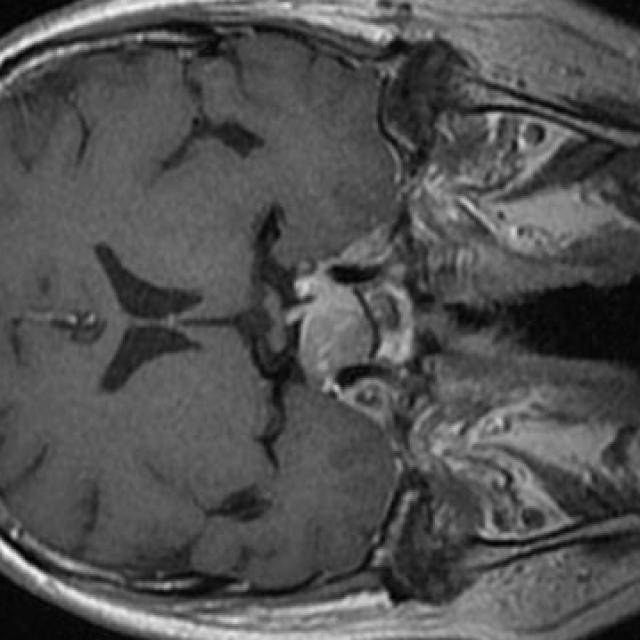pituitary: (287, 257, 373, 376)
